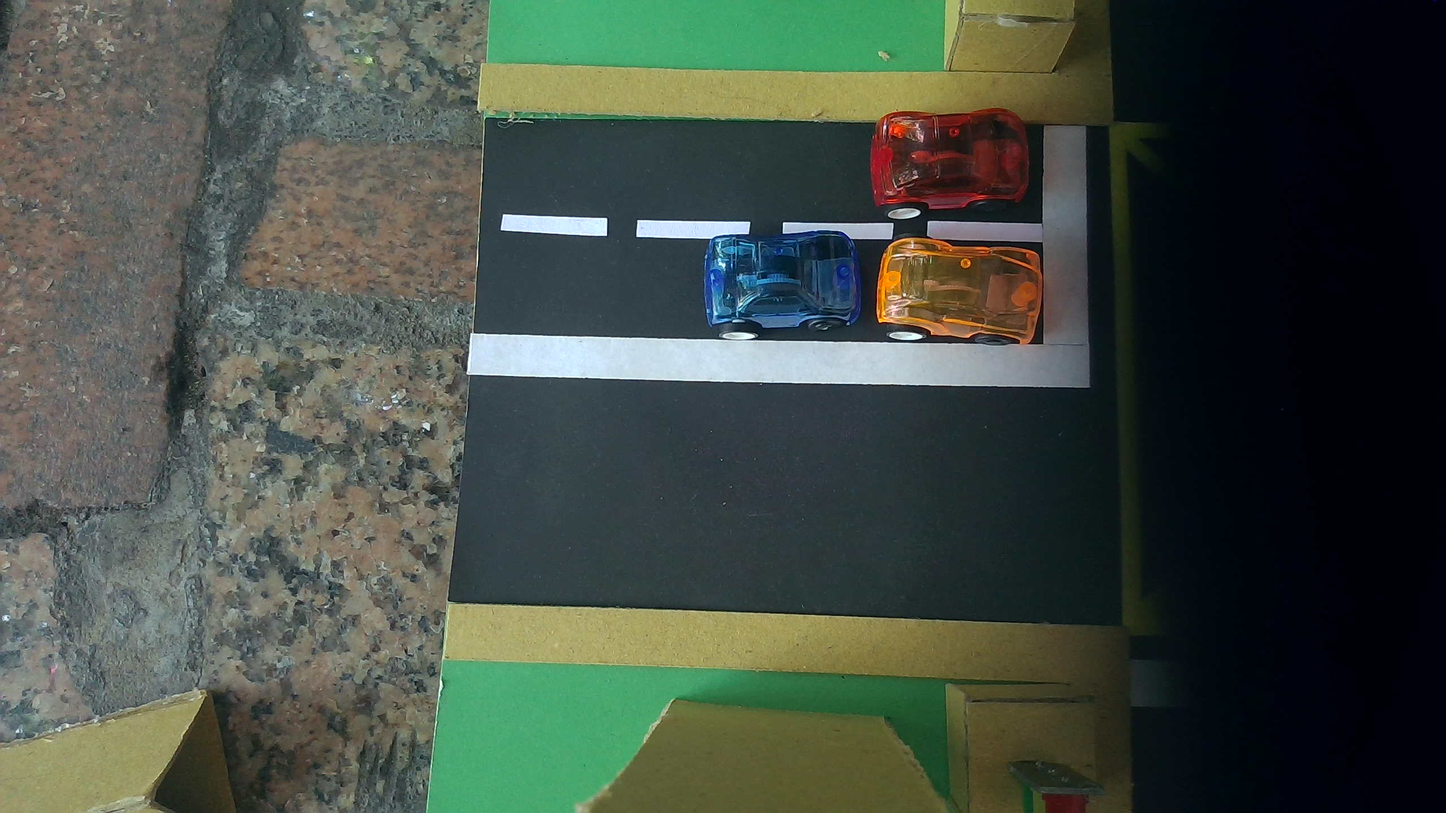Mobil biru: (703, 230, 861, 340)
Mobil merah: (870, 108, 1030, 219)
Mobil orange: (877, 237, 1043, 344)
